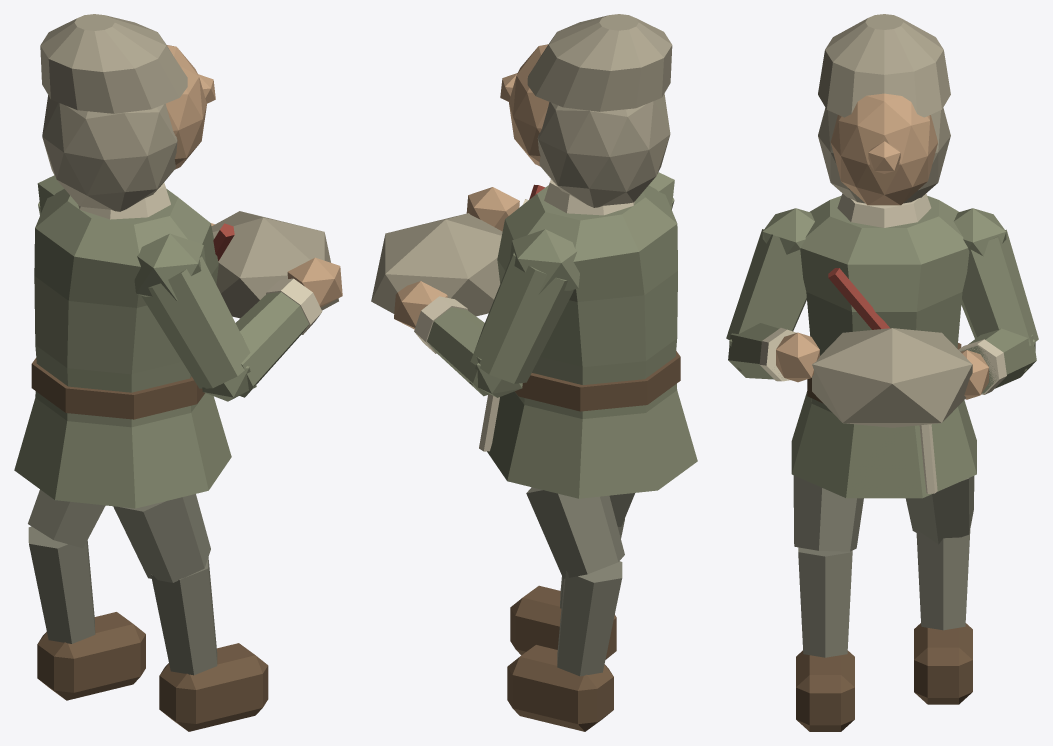
File: civilian_child.glb
3 views of the same model, side by side, from view 1: azimuth 30°, elevation 25°; view 2: azimuth 150°, elevation 25°; view 3: azimuth 270°, elevation 25° (orthographic). The views are drawn at different scales.
Parts seen in each view (by area): view 1: civilian_child_civilian_wool, civilian_child_padded_linen, civilian_child_hose, civilian_child_leather, civilian_child_skin, civilian_child_linen; view 2: civilian_child_civilian_wool, civilian_child_padded_linen, civilian_child_leather, civilian_child_hose, civilian_child_skin, civilian_child_linen; view 3: civilian_child_civilian_wool, civilian_child_padded_linen, civilian_child_hose, civilian_child_skin, civilian_child_leather, civilian_child_linen, civilian_child_team_cloth.
Boxes of the visible parts, x1,y1,x2,y2 form: civilian_child_civilian_wool: [14, 175, 308, 508]; civilian_child_padded_linen: [40, 14, 338, 318]; civilian_child_hose: [28, 489, 217, 675]; civilian_child_leather: [31, 358, 268, 731]; civilian_child_skin: [166, 45, 342, 307]; civilian_child_linen: [78, 182, 322, 334]; civilian_child_civilian_wool: [427, 172, 697, 498]; civilian_child_padded_linen: [371, 14, 672, 316]; civilian_child_leather: [507, 351, 680, 731]; civilian_child_hose: [526, 487, 634, 676]; civilian_child_skin: [394, 44, 549, 329]; civilian_child_linen: [414, 179, 634, 451]; civilian_child_civilian_wool: [726, 195, 1038, 498]; civilian_child_padded_linen: [812, 14, 972, 427]; civilian_child_hose: [793, 475, 974, 657]; civilian_child_skin: [776, 93, 988, 399]; civilian_child_leather: [796, 343, 972, 731]; civilian_child_linen: [759, 193, 1006, 493]; civilian_child_team_cloth: [828, 268, 889, 329].
Bounding box in the file's own units: 0.5459 × 1.23 × 0.5331.
